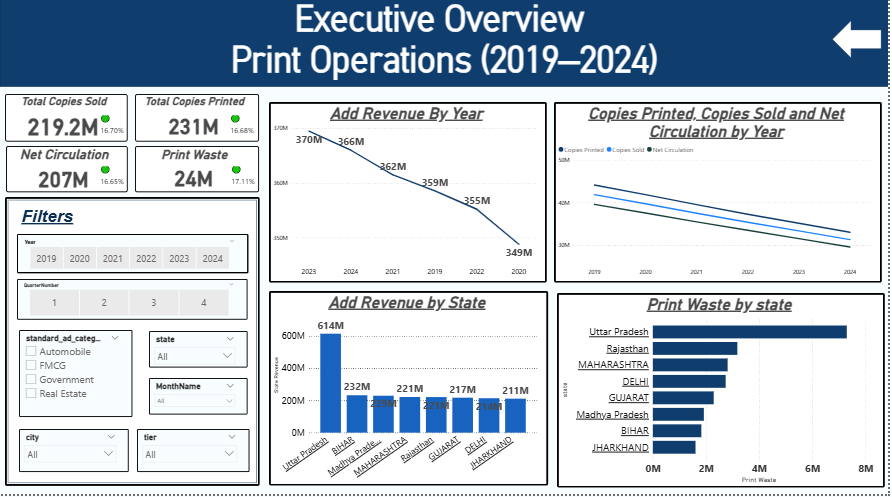

The dashboard page shown, as its layout file describes it:
{"tool":"powerbi","page":{"name":"Executive Overview","canvas":[1920,1080],"ordinal":1},"visuals":[{"type":"shape","box":[0,0,1920,200],"z":0},{"type":"textbox","box":[0,0,1920,200],"z":1000},{"type":"card","title":"Total Copies Printed","fields":{"Values":["fact_print_sales.Copies Printed"]},"box":[292.5,215,267.5,102.5],"z":2000},{"type":"card","title":"Total Copies Sold","fields":{"Values":["fact_print_sales.Copies Sold"]},"box":[10,215,265,102.5],"z":3000},{"type":"card","title":"Net Circulation","fields":{"Values":["fact_print_sales.Net Circulation"]},"box":[1285,805,250,157.5],"z":4000},{"type":"lineChart","fields":{"Category":["calender.Year"],"Y":["fact_print_sales.Copies Printed","fact_print_sales.Copies Sold","fact_print_sales.Net Circulation"]},"box":[1197.5,232.5,707.5,390],"z":5000},{"type":"barChart","fields":{"Category":["dim_city.state"],"Y":["fact_print_sales.Print Waste"]},"box":[1202.5,645,707.5,420],"z":6000},{"type":"lineChart","title":"Add Revenue By Year","fields":{"Y":["fact_ad_revenue.State  Revenue"],"Category":["calender.Year"]},"box":[580,232.5,600,390],"z":7000},{"type":"columnChart","title":"Add  Revenue by State","fields":{"Y":["fact_ad_revenue.State Revenue"],"Category":["dim_city.state"]},"box":[580,642.5,602.5,420],"z":8000},{"type":"card","title":"Net Circulation","fields":{"Values":["fact_print_sales.Net Circulation"]},"box":[12.5,327.5,262.5,100],"z":9000},{"type":"card","title":"Print Waste","fields":{"Values":["fact_print_sales.Print Waste"]},"box":[292.5,327.5,267.5,100],"z":10000},{"type":"multiRowCard","fields":{"Values":["fact_print_sales.YoY Icon3","fact_print_sales.YoY Print Waste %"]},"box":[495,367.5,65,60],"z":11000},{"type":"multiRowCard","fields":{"Values":["fact_print_sales.YoY Icon2","fact_print_sales.YoY Net Circulation  %"]},"box":[212.5,367.5,62.5,60],"z":12000},{"type":"multiRowCard","fields":{"Values":["fact_print_sales.YoY Icon","fact_print_sales.YoY Copies printed %"]},"box":[212.5,257.5,62.5,60],"z":13000},{"type":"multiRowCard","fields":{"Values":["fact_print_sales.YoY Icon1","fact_print_sales.YoY Copies Sold %"]},"box":[492.5,257.5,67.5,60],"z":14000},{"type":"shape","box":[10,439,550,624],"z":15000},{"type":"slicer","fields":{"Values":["dim_city.city"]},"box":[40,940,236.7,93.3],"z":16000},{"type":"slicer","fields":{"Values":["dim_city.state"]},"box":[321,728,213,79],"z":17000},{"type":"slicer","fields":{"Values":["calender.Year"]},"box":[37.5,517.5,500,85],"z":18000},{"type":"slicer","fields":{"Values":["calender.MonthName"]},"box":[321,830,213,79],"z":19000},{"type":"slicer","fields":{"Values":["calender.QuarterNumber"]},"box":[37.5,615,497.5,87.5],"z":20000},{"type":"slicer","fields":{"Values":["dim_ad_category.standard_ad_category"]},"box":[40,725,245,187.5],"z":21000},{"type":"slicer","fields":{"Values":["dim_city.tier"]},"box":[295,940,242.5,92.5],"z":22000},{"type":"textbox","box":[40,454.3,327.1,61.4],"z":23000},{"type":"shape","box":[1796.7,56.7,106.7,83.3],"z":24000}]}

Visuals, with their boxes in screenshot pixels (x1, y1, x2, y2), scaled from the page's 1920x1080 canvas onto the 892x497 screenshot:
shape: <region>0, 0, 891, 92</region>
textbox: <region>0, 0, 891, 92</region>
"Total Copies Printed" card: <region>136, 99, 260, 146</region>
"Total Copies Sold" card: <region>5, 99, 128, 146</region>
"Net Circulation" card: <region>597, 370, 713, 443</region>
lineChart - calender.Year x fact_print_sales.Copies Printed: <region>556, 107, 885, 286</region>
barChart - dim_city.state x fact_print_sales.Print Waste: <region>559, 297, 887, 490</region>
"Add Revenue By Year" lineChart: <region>269, 107, 548, 286</region>
"Add  Revenue by State" columnChart: <region>269, 296, 549, 489</region>
"Net Circulation" card: <region>6, 151, 128, 197</region>
"Print Waste" card: <region>136, 151, 260, 197</region>
multiRowCard - fact_print_sales.YoY Icon3 x fact_print_sales.YoY Print Waste %: <region>230, 169, 260, 197</region>
multiRowCard - fact_print_sales.YoY Icon2 x fact_print_sales.YoY Net Circulation  %: <region>99, 169, 128, 197</region>
multiRowCard - fact_print_sales.YoY Icon x fact_print_sales.YoY Copies printed %: <region>99, 118, 128, 146</region>
multiRowCard - fact_print_sales.YoY Icon1 x fact_print_sales.YoY Copies Sold %: <region>229, 118, 260, 146</region>
shape: <region>5, 202, 260, 489</region>
slicer - dim_city.city: <region>19, 433, 129, 476</region>
slicer - dim_city.state: <region>149, 335, 248, 371</region>
slicer - calender.Year: <region>17, 238, 250, 277</region>
slicer - calender.MonthName: <region>149, 382, 248, 418</region>
slicer - calender.QuarterNumber: <region>17, 283, 249, 323</region>
slicer - dim_ad_category.standard_ad_category: <region>19, 334, 132, 420</region>
slicer - dim_city.tier: <region>137, 433, 250, 475</region>
textbox: <region>19, 209, 171, 237</region>
shape: <region>835, 26, 884, 64</region>
